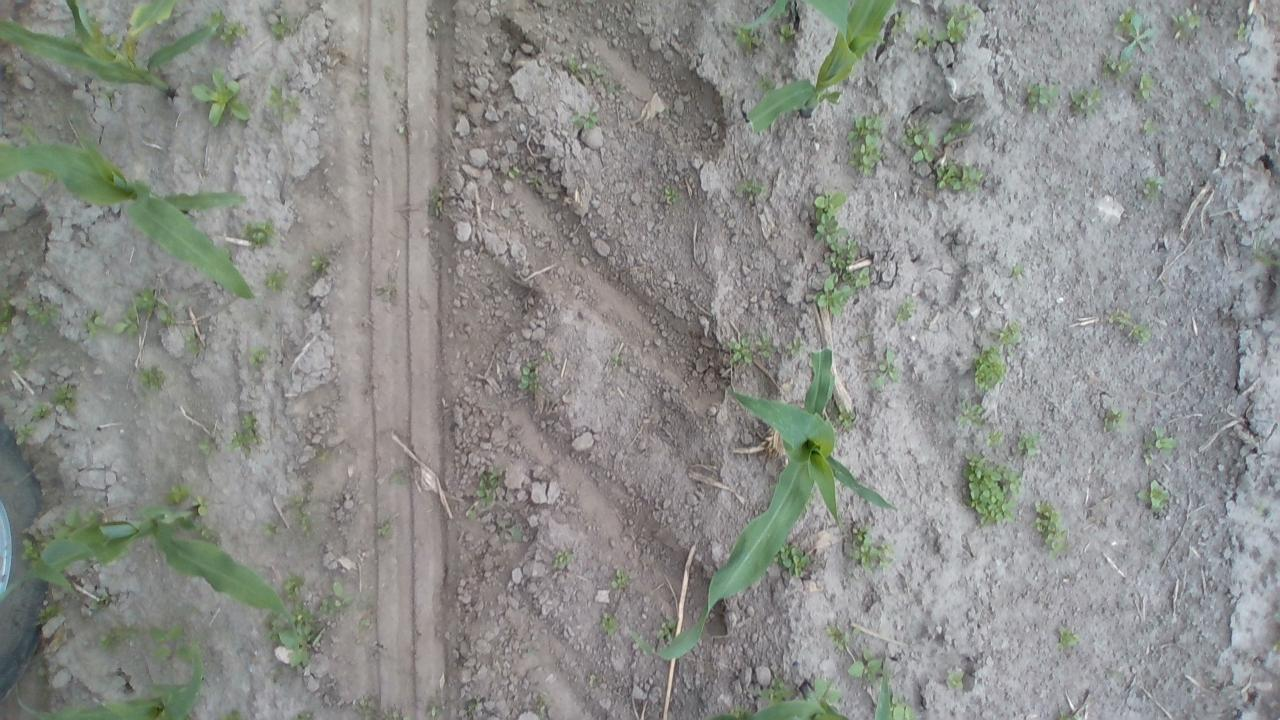Maize: (624, 349, 896, 662), (0, 112, 256, 298), (3, 502, 300, 659), (0, 0, 220, 103), (746, 0, 896, 126), (18, 646, 205, 720), (707, 671, 848, 720), (726, 0, 788, 31), (876, 652, 894, 720)
Weeds: (810, 188, 871, 311), (962, 451, 1021, 523), (190, 73, 251, 125), (844, 108, 888, 174), (270, 610, 316, 670), (842, 520, 892, 565), (262, 84, 306, 131), (285, 485, 322, 540), (1115, 7, 1156, 56), (228, 411, 266, 462), (514, 350, 558, 390), (1034, 498, 1064, 553), (1107, 308, 1153, 343), (902, 118, 936, 165), (972, 347, 1009, 390), (944, 1, 982, 42), (207, 10, 250, 46), (24, 295, 68, 330), (936, 162, 984, 194), (773, 548, 819, 580), (145, 624, 184, 661), (1024, 76, 1062, 113), (1143, 427, 1182, 462), (868, 347, 901, 388), (246, 213, 280, 252), (734, 334, 776, 364), (1068, 81, 1105, 114), (572, 46, 604, 84), (1170, 7, 1204, 42), (471, 469, 505, 504), (134, 290, 170, 323), (1138, 478, 1172, 512), (993, 320, 1033, 348), (323, 580, 354, 614), (100, 622, 134, 652), (952, 398, 986, 428), (264, 258, 290, 296), (1054, 627, 1089, 655), (140, 362, 172, 392), (1132, 64, 1158, 100), (266, 10, 296, 40), (284, 574, 314, 604), (849, 648, 879, 678), (0, 294, 19, 341), (890, 296, 920, 324), (942, 119, 973, 146), (84, 308, 110, 340), (911, 22, 937, 54), (1102, 52, 1134, 78), (1101, 406, 1128, 436), (114, 304, 140, 335), (52, 382, 78, 413), (424, 184, 446, 220), (764, 678, 794, 704), (1140, 172, 1166, 202), (1013, 428, 1039, 456), (733, 176, 766, 198), (244, 344, 270, 371), (195, 437, 220, 465), (736, 28, 765, 52), (9, 423, 39, 446), (33, 604, 63, 626), (888, 9, 912, 35), (192, 493, 216, 518), (595, 610, 620, 633), (824, 623, 849, 645), (756, 71, 781, 92), (388, 466, 413, 487), (1238, 93, 1258, 119), (946, 666, 969, 688), (550, 550, 578, 568), (17, 542, 41, 562), (1256, 248, 1280, 268), (654, 616, 672, 642), (184, 326, 199, 356), (260, 519, 283, 538), (584, 668, 604, 688), (308, 254, 330, 272), (604, 566, 626, 584), (375, 518, 395, 537), (608, 349, 629, 367), (32, 404, 53, 422), (167, 486, 188, 504), (990, 426, 1009, 445), (463, 700, 481, 720), (1010, 261, 1031, 278), (893, 703, 915, 719), (576, 113, 598, 129), (196, 524, 216, 540), (729, 702, 749, 718), (785, 337, 805, 353), (838, 410, 858, 426), (218, 709, 247, 720), (1234, 21, 1250, 40), (780, 21, 800, 36), (506, 519, 520, 539), (660, 185, 676, 201), (1202, 94, 1218, 110), (1140, 116, 1156, 130), (294, 711, 318, 720), (564, 56, 576, 72), (606, 83, 620, 96), (508, 166, 520, 176)
